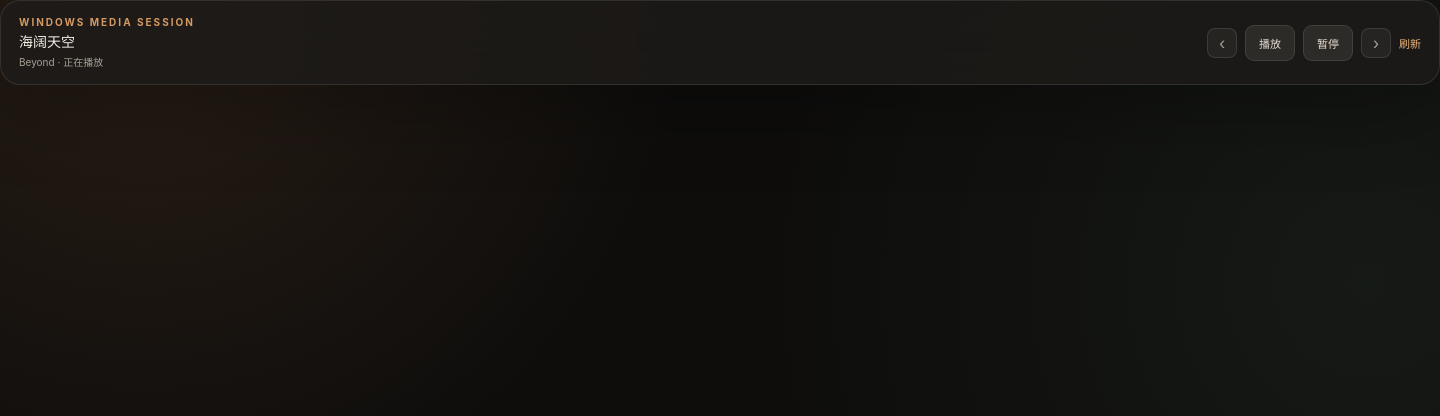
Test: NowPlayingPanel › keeps the current song visible when a control fails
Click the button with test id "media-next": (1376, 42) x1=1361 y1=28 x2=1391 y2=58
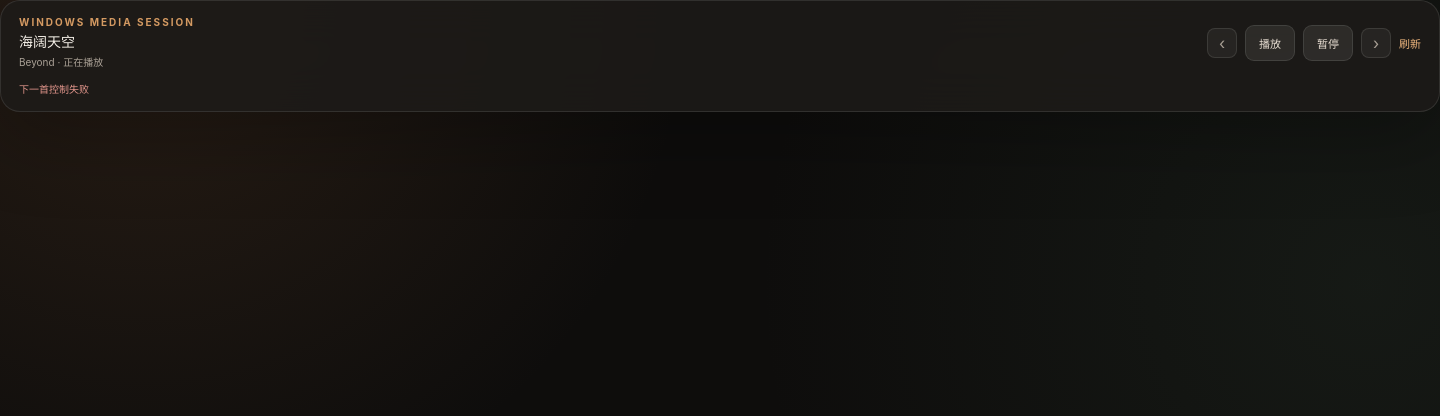
Expected: the text "海阔天空" is shown, x1=19 y1=33 x2=75 y2=50
Result: the message "下一首控制失败" is shown at x1=19 y1=83 x2=89 y2=95
